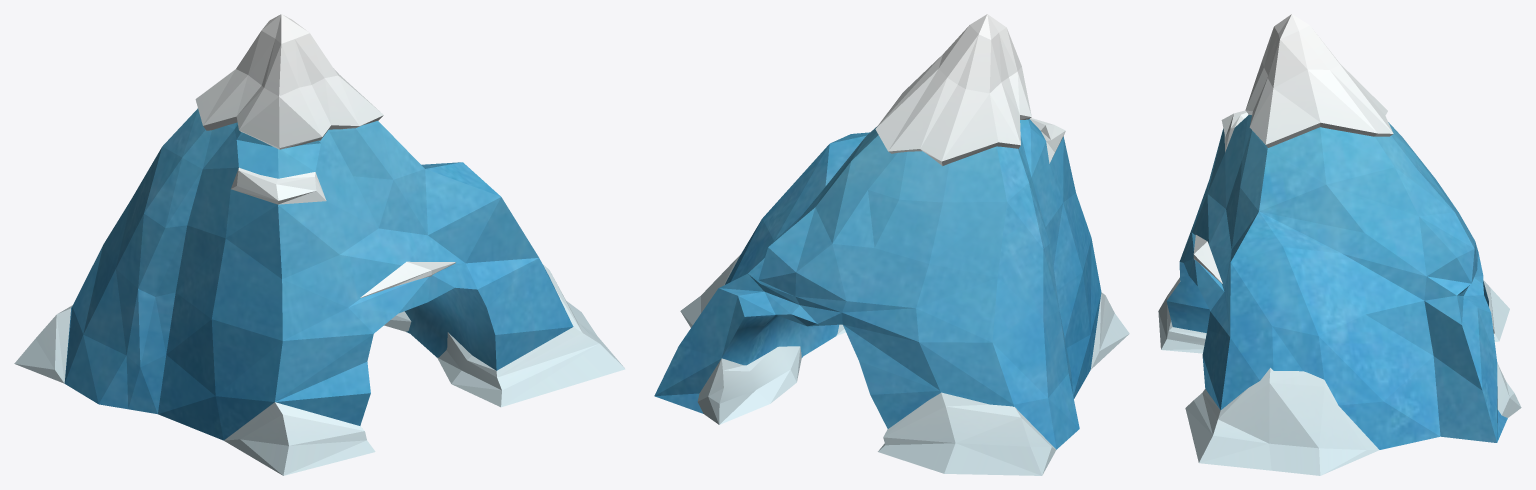
Rendered from HX-Bingdong2.FBX.
The picture shows the model from 3 angles, left to right: view 1: azimuth 30°, elevation 25°; view 2: azimuth 150°, elevation 25°; view 3: azimuth 270°, elevation 25°; orthographic projection. The views are drawn at different scales.
Parts seen in each view (by area): view 1: bingdong2, jixue5; view 2: bingdong2, jixue5; view 3: bingdong2, jixue5.
Boxes of the visible parts, x1,y1,x2,y2 form: bingdong2: (64, 108, 573, 440); jixue5: (14, 14, 625, 475); bingdong2: (654, 119, 1101, 449); jixue5: (680, 14, 1129, 475); bingdong2: (1166, 114, 1507, 449); jixue5: (1158, 14, 1521, 475).
Size of the model in its own units: 10466 by 8074 by 8047.
